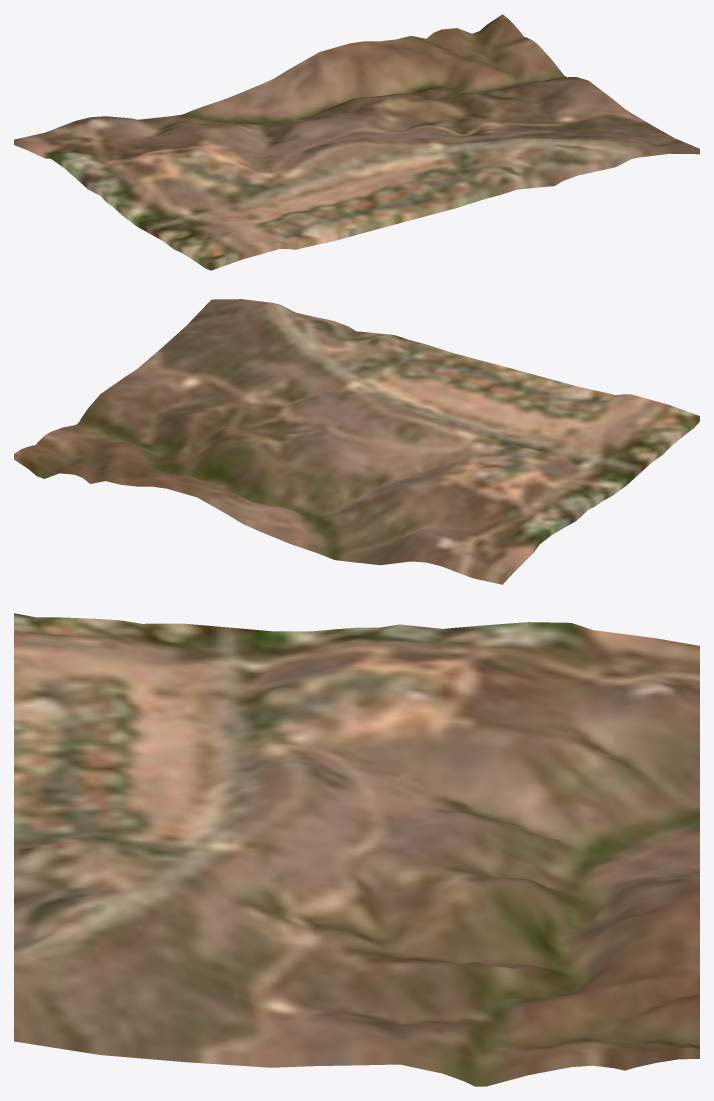
File: terrain_r5_c0_lod2.glb
The picture shows the model from 3 angles, top to bottom: view 1: azimuth 30°, elevation 25°; view 2: azimuth 150°, elevation 25°; view 3: azimuth 270°, elevation 25°; orthographic projection. The views are drawn at different scales.
Visible parts, largest first — view 1: terrain_r5_c0_lod2; view 2: terrain_r5_c0_lod2; view 3: terrain_r5_c0_lod2.
Boxes of the visible parts, left/top/right/bottom form: terrain_r5_c0_lod2: left=14, top=14, right=699, bottom=270; terrain_r5_c0_lod2: left=14, top=299, right=699, bottom=584; terrain_r5_c0_lod2: left=14, top=613, right=699, bottom=1086.
Bounding box in the file's own units: 1125 × 115 × 787.
1 material, 1 textured.
